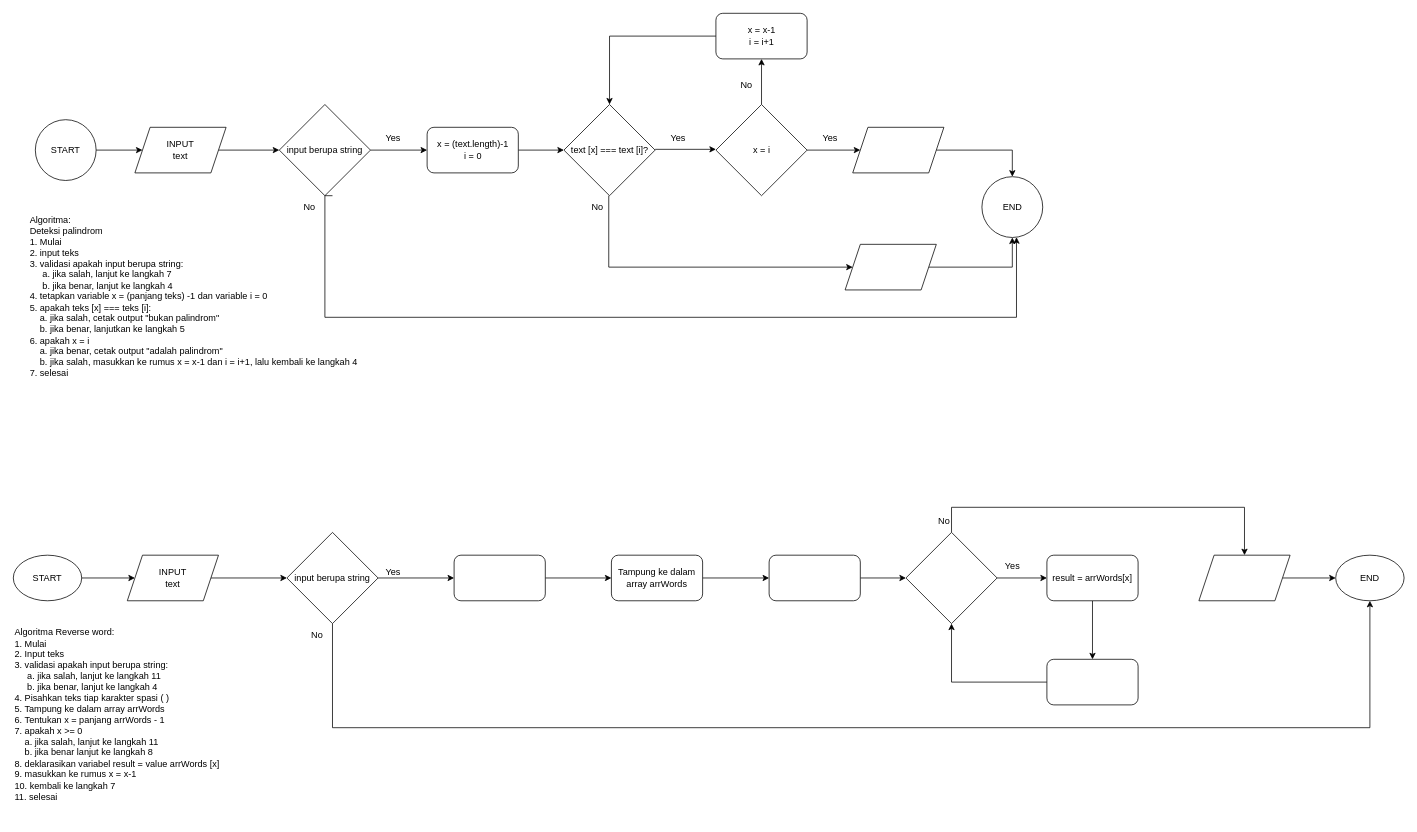
Image size: 1417x832. Some labels were removed from this diagram. The shapes that lost their labels are listed below. From the top down, each one's centre as x and y in pixels, then its label:
point 898,150: OUTPUT: "adalah palindrom"
point 890,267: OUTPUT: "bukan palindrom"
point 499,577: Pisahkan teks tiap karakter spasi ( )
point 814,577: x = (arrWords.length) - 1
point 951,578: x >= 0
point 1244,577: OUTPUT: result
point 1092,682: x = x-1
